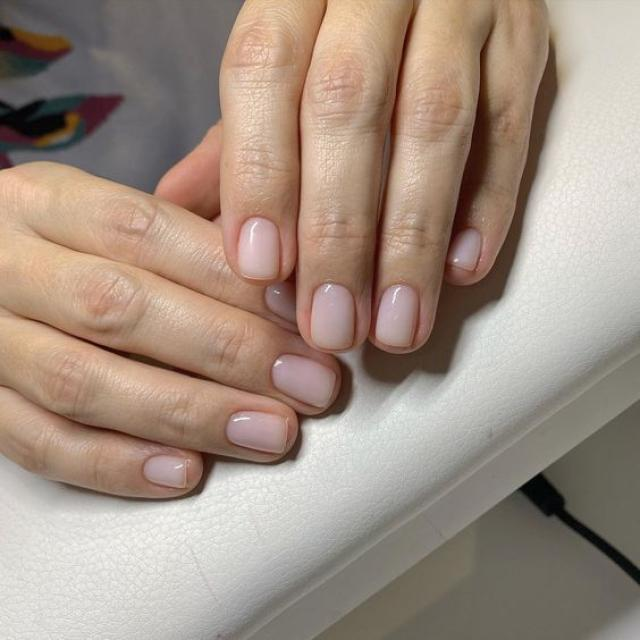Fingernail: (272, 354, 337, 409), (312, 283, 355, 350), (238, 216, 280, 280), (226, 410, 287, 454), (376, 285, 419, 347), (143, 456, 187, 489), (447, 229, 482, 270)
